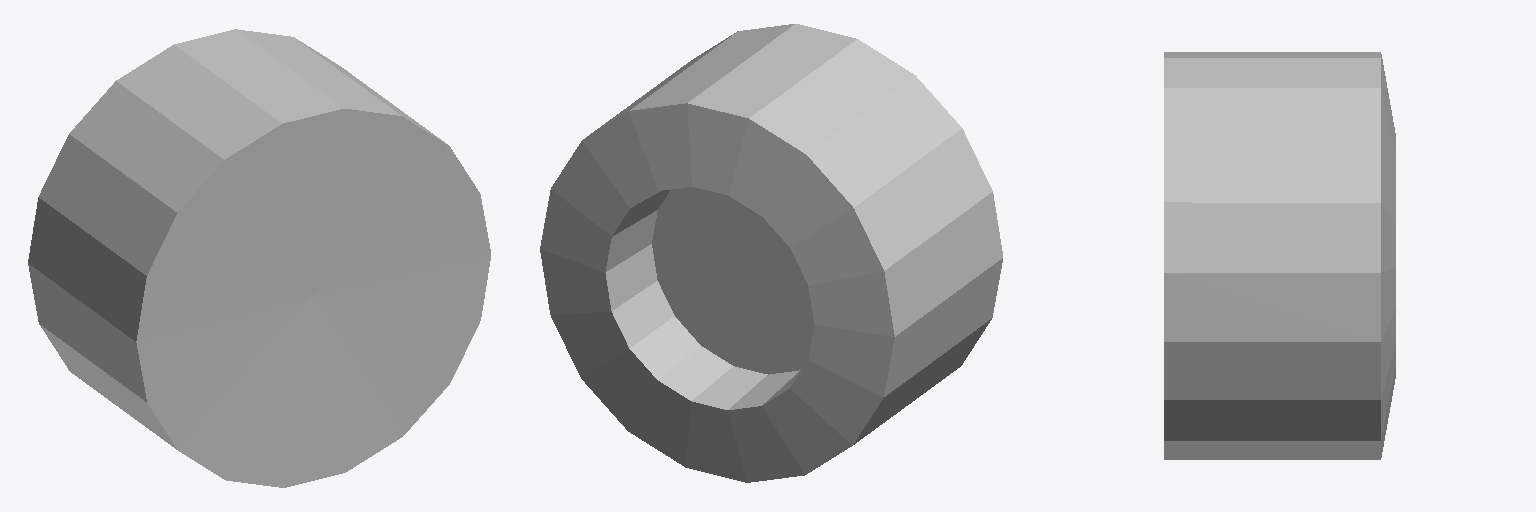
File: donglilun_2.obj
3 views of the same model, side by side, from view 1: azimuth 30°, elevation 25°; view 2: azimuth 150°, elevation 25°; view 3: azimuth 270°, elevation 25° (orthographic).
Parts seen in each view (by area): view 1: donglilun:donglilun; view 2: donglilun:donglilun; view 3: donglilun:donglilun.
Part boxes in pixels (x1,y1,x2,y2): donglilun:donglilun: (28, 29, 490, 487); donglilun:donglilun: (540, 24, 1002, 482); donglilun:donglilun: (1164, 52, 1395, 459).
Bounding box in the file's own units: 97.71 × 96.01 × 55.31.